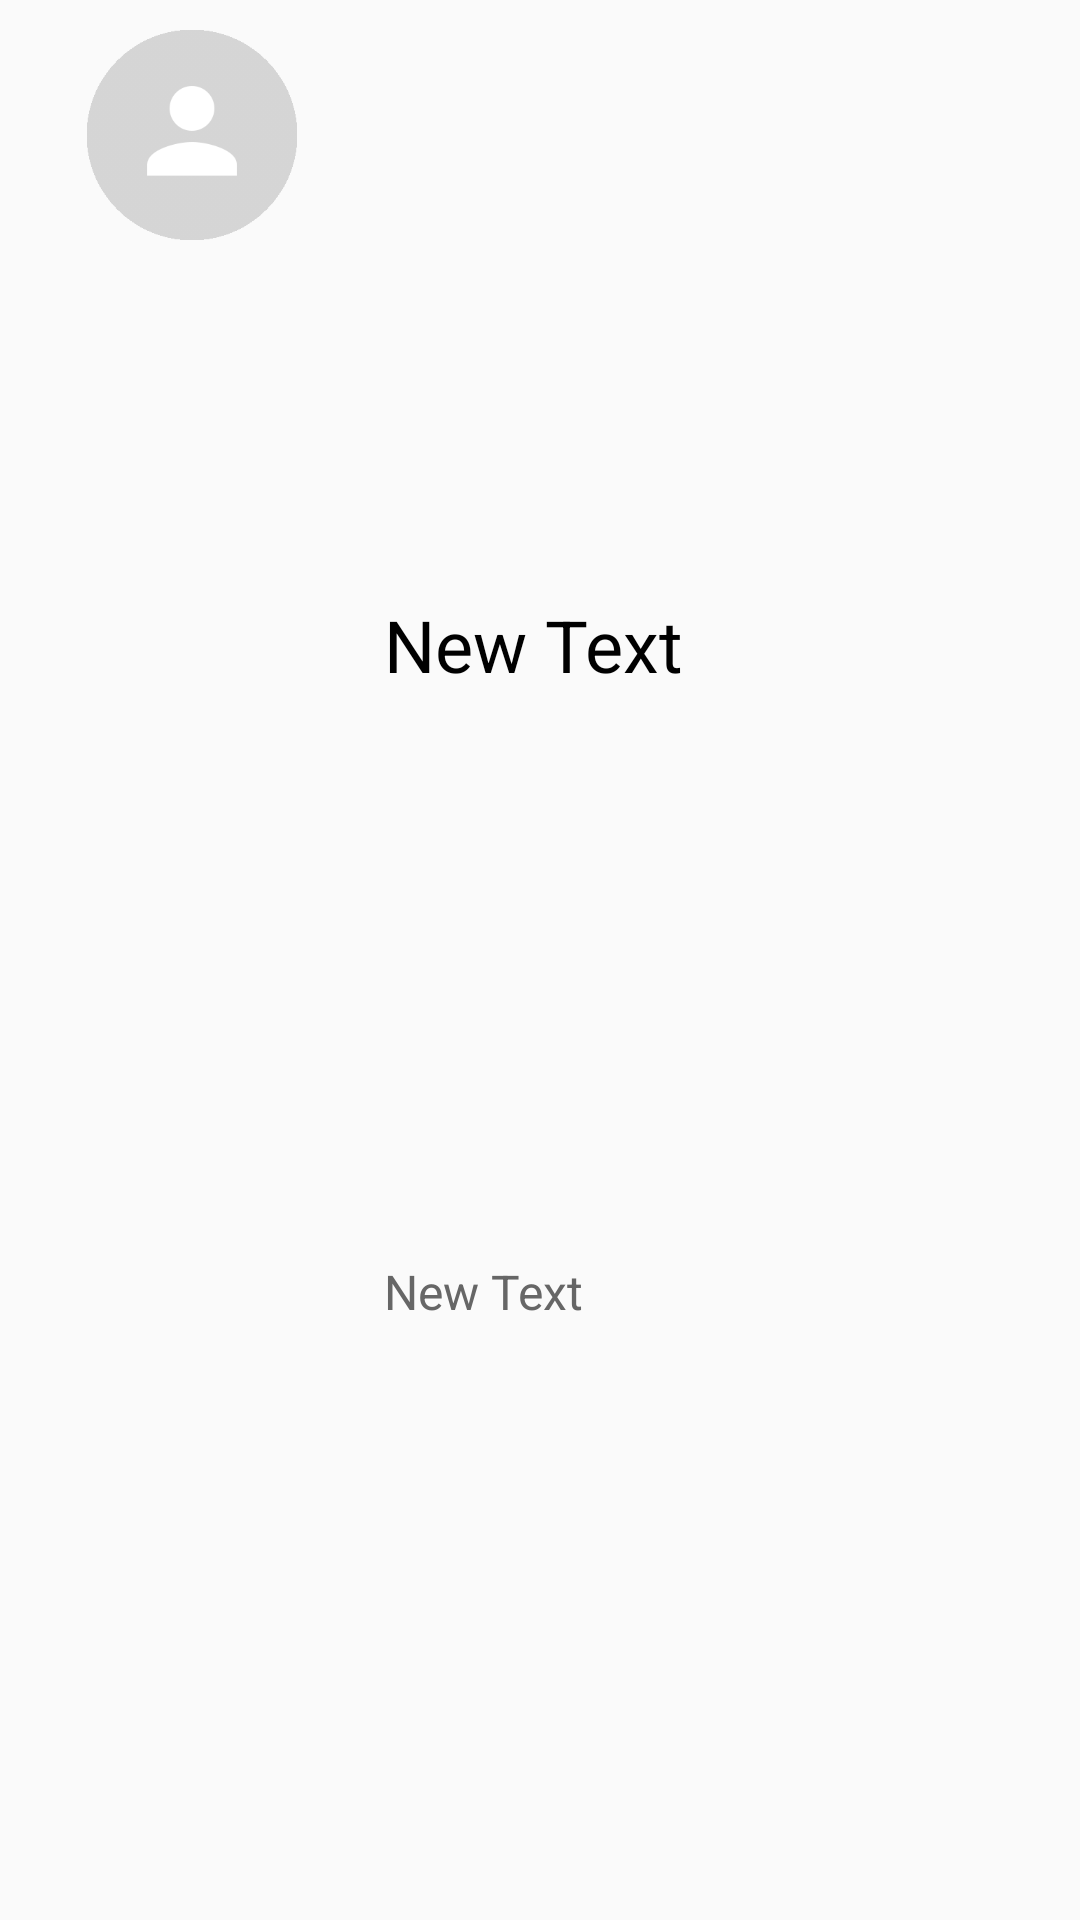

Icon bounding boxes for this 1080 x 1920 phone screenshot, format (x1, y1, x2, y2):
profile: (87, 30, 297, 240)
